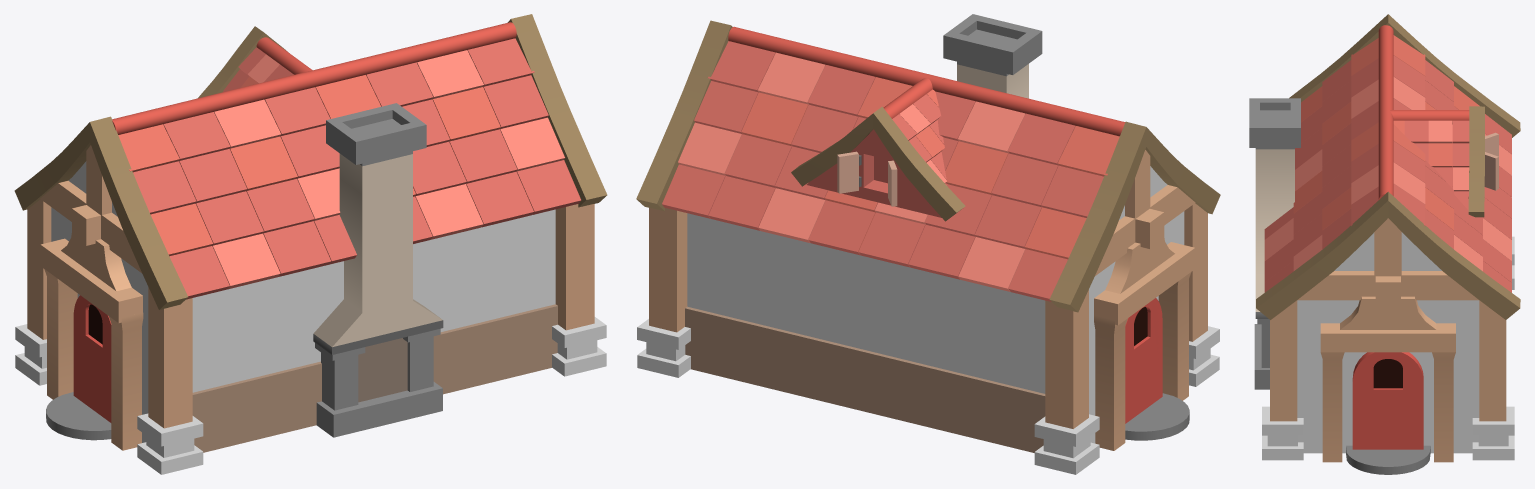
The model's file is 마을집2그룹.fbx.
3 views of the same model, side by side, from view 1: azimuth 30°, elevation 25°; view 2: azimuth 150°, elevation 25°; view 3: azimuth 270°, elevation 25° (orthographic). The views are drawn at different scales.
Parts seen in each view (by area): view 1: Cube.028; view 2: Cube.028; view 3: Cube.028.
Part boxes in pixels (box(x1,y1,x2,y2)): Cube.028: box(14, 14, 607, 474); Cube.028: box(636, 14, 1220, 474); Cube.028: box(1249, 14, 1520, 474).
Size of the model in its own units: 4729 by 2632 by 2483.
